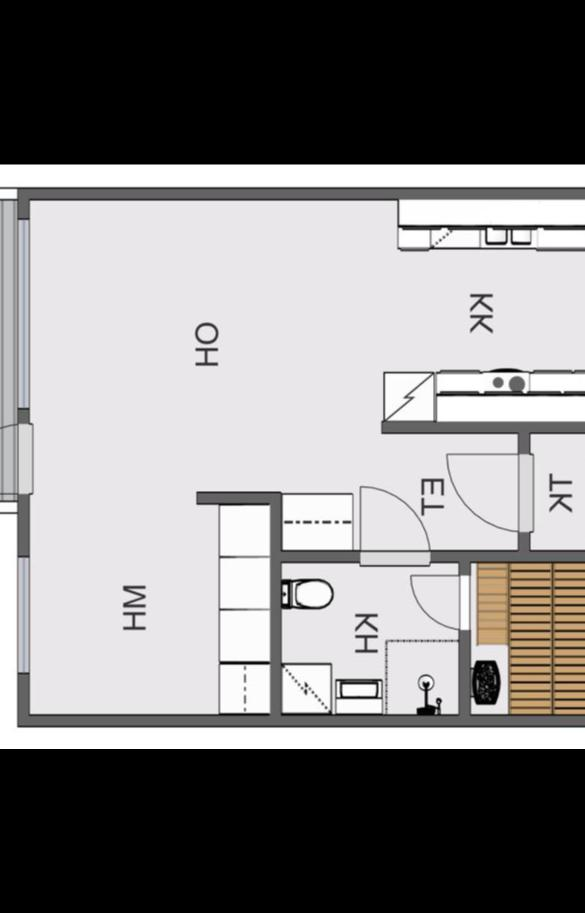door: (442, 450, 544, 538), (355, 480, 426, 568), (404, 567, 472, 639), (0, 418, 35, 498)
window: (11, 209, 33, 413), (11, 549, 34, 679)
